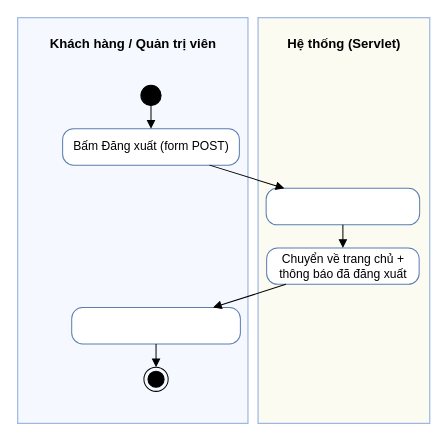
Image size: 448x441. Some labels were removed from this diagram. Each missing label, with the box of its shape:
Hủy session (invalidate): (265, 187, 420, 225)
Xem trang chủ ở trạng thái khách vãng lai: (71, 307, 240, 344)
